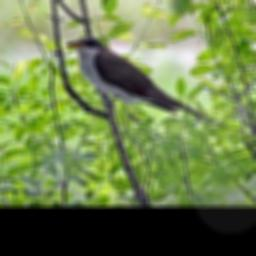Cuckoo: (62, 36, 227, 133)
